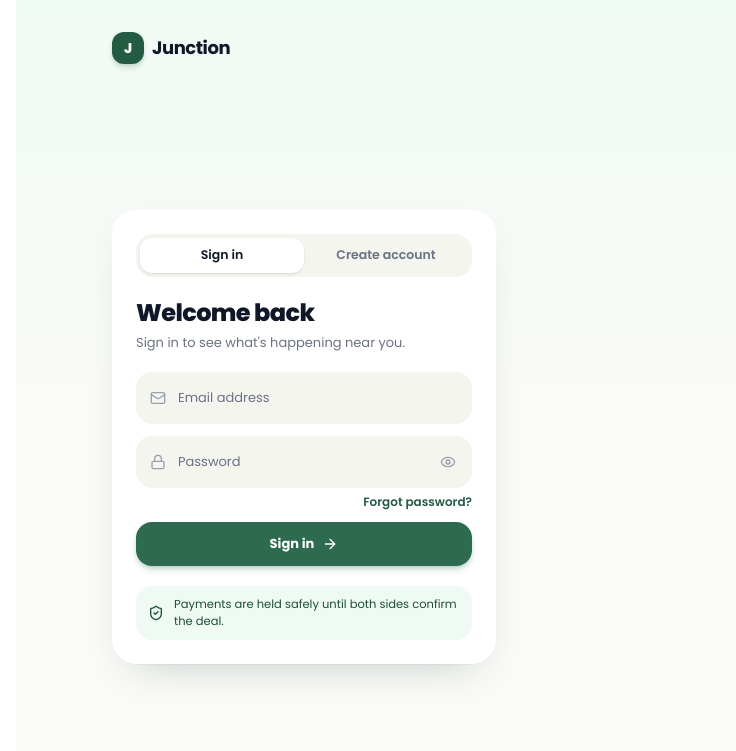
Test: LoginPage › shows the suspension reason when a suspended user signs in
In the field labelled "Email address": [304, 398] box left=136, top=372, right=472, bottom=424, type "ada@example.com"
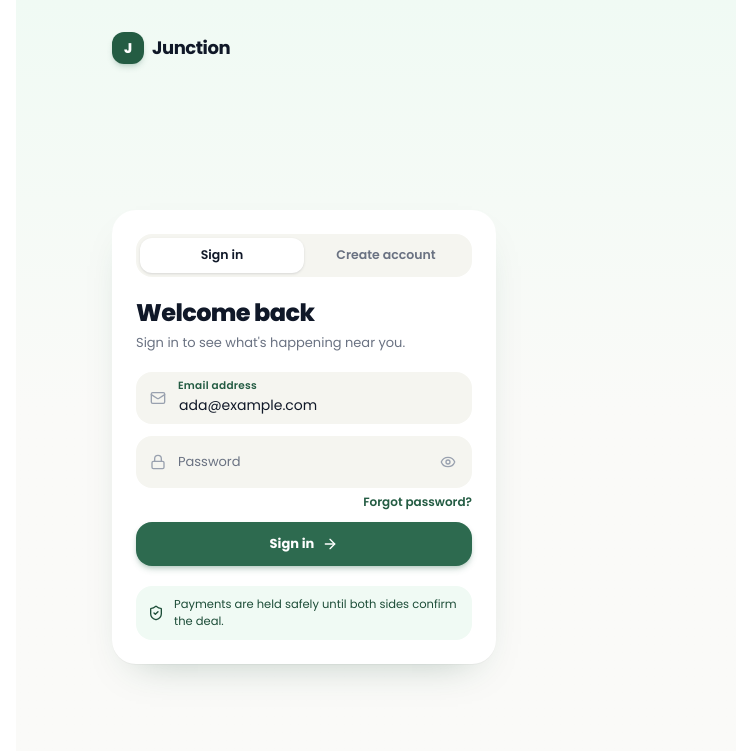
In the password field labelled "Password": [304, 462] box left=136, top=436, right=472, bottom=488, type "right-password"
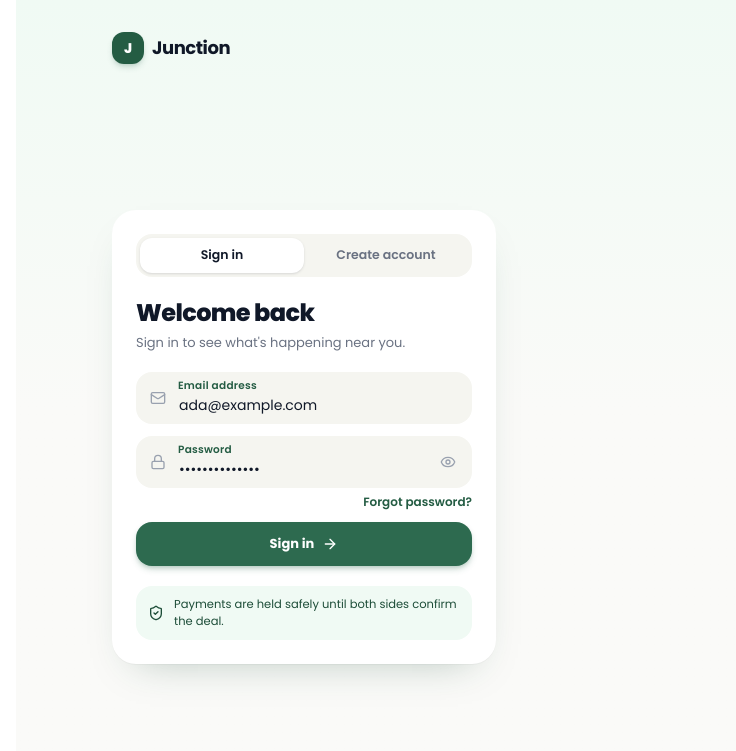
Click the button "Sign in": [304, 544] box left=136, top=522, right=472, bottom=566
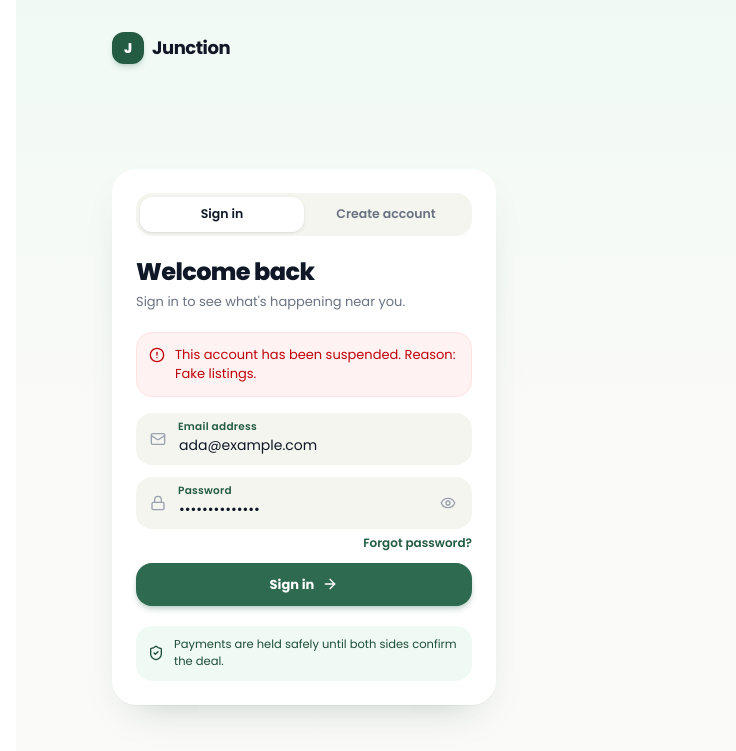
Now the text "This account has been suspended. Reason: Fake listings." is shown, box left=175, top=345, right=459, bottom=384
